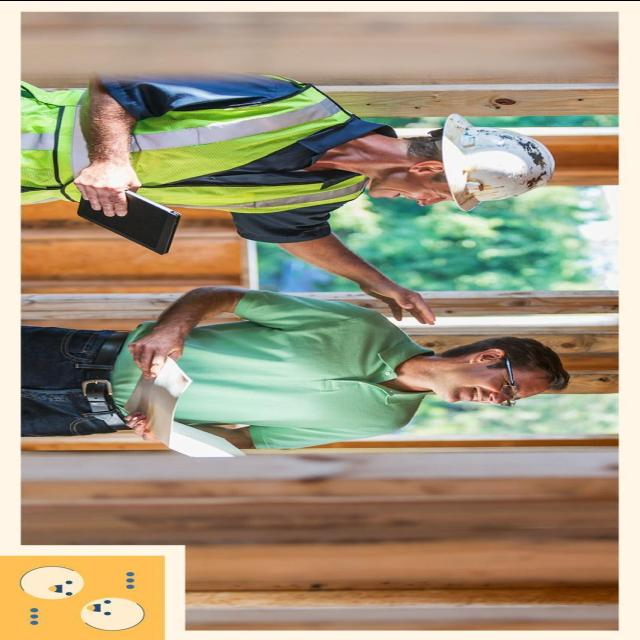helmet: (439, 104, 566, 214)
jacket: (13, 74, 373, 220)
